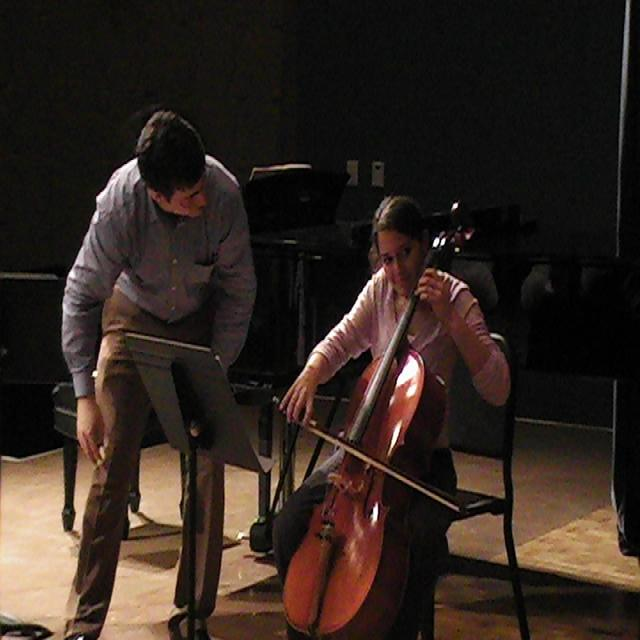cello: (276, 200, 472, 638)
